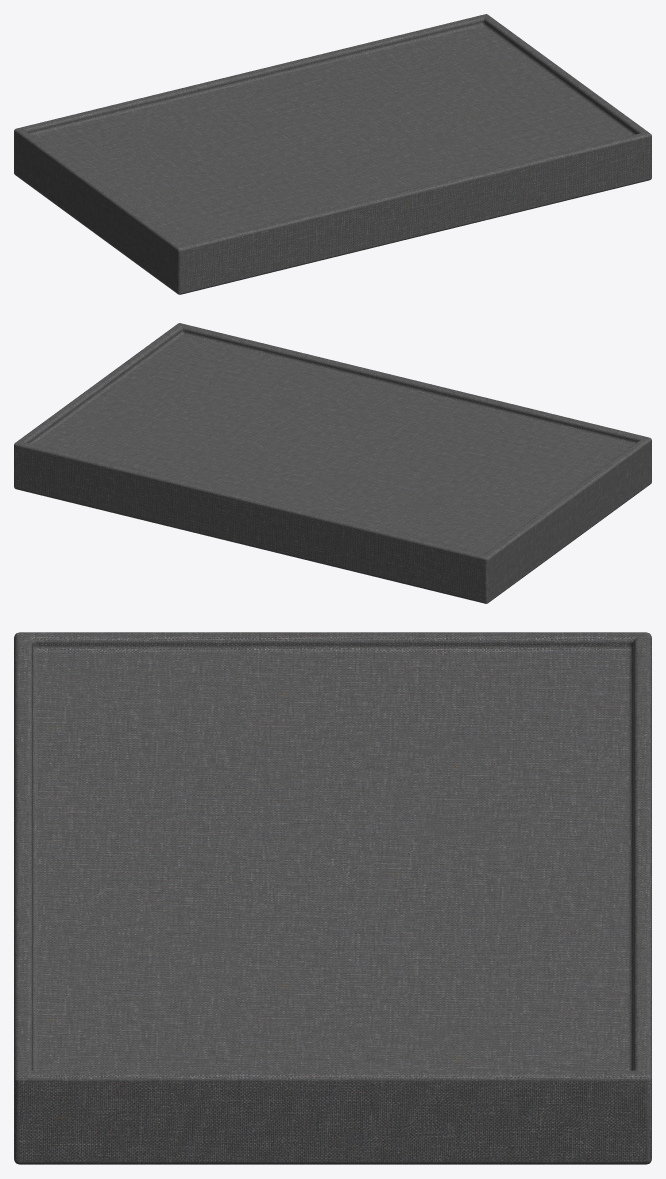
3 views of the same model, one above another, from view 1: azimuth 30°, elevation 25°; view 2: azimuth 150°, elevation 25°; view 3: azimuth 270°, elevation 25° (orthographic). The views are drawn at different scales.
Parts seen in each view (by area): view 1: base_cama; view 2: base_cama; view 3: base_cama.
Part boxes in pixels (box(x1,y1,x2,y2)): base_cama: box(14, 14, 651, 294); base_cama: box(14, 323, 651, 603); base_cama: box(14, 632, 651, 1164).
Size of the model in its own units: 2.07 by 0.1948 by 1.25.
Materials: 1 (1 with a texture image).
